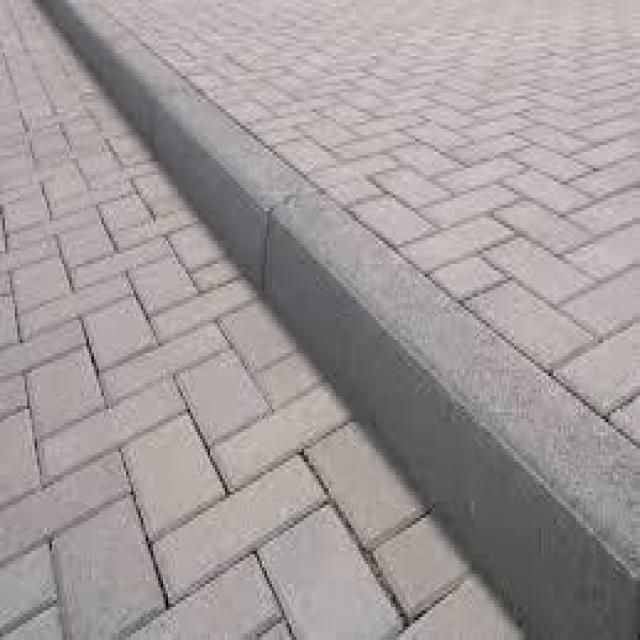curb: (387, 357, 638, 638), (214, 134, 366, 325), (343, 261, 470, 451), (114, 40, 237, 176), (56, 1, 149, 83)
